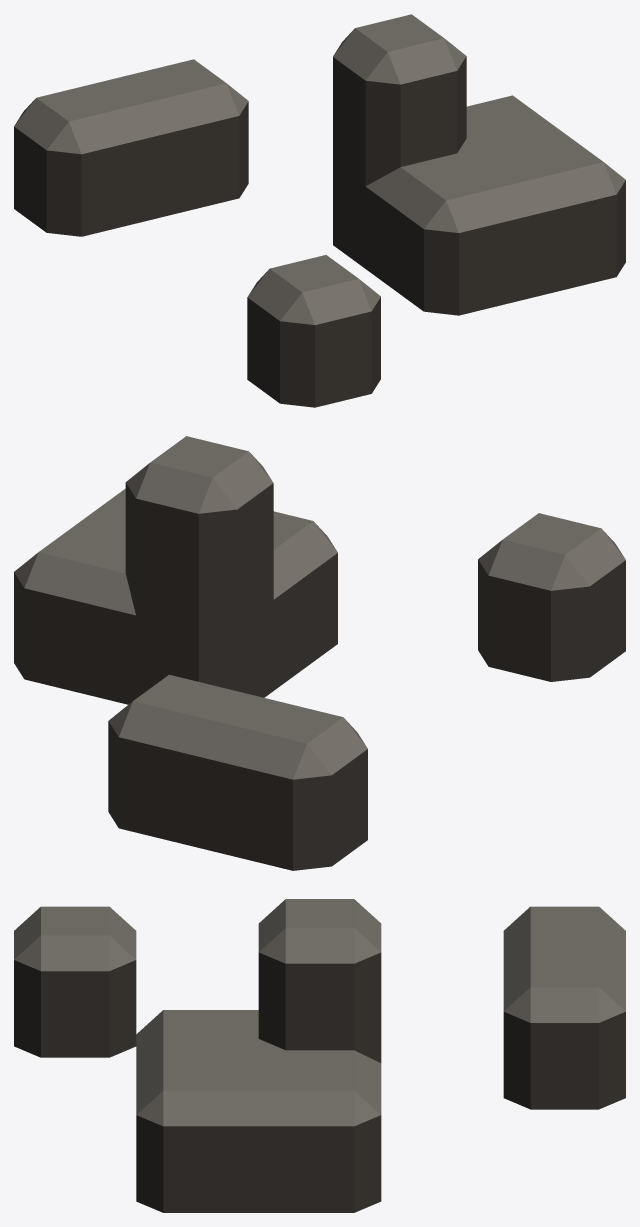
The picture shows the model from 3 angles, top to bottom: view 1: azimuth 30°, elevation 25°; view 2: azimuth 150°, elevation 25°; view 3: azimuth 270°, elevation 25°; orthographic projection. The views are drawn at different scales.
Parts seen in each view (by area): view 1: stone_debris_trio; view 2: stone_debris_trio; view 3: stone_debris_trio.
Boxes of the visible parts, x1,y1,x2,y2 form: stone_debris_trio: [14, 14, 625, 407]; stone_debris_trio: [14, 436, 625, 870]; stone_debris_trio: [14, 899, 625, 1212].
Size of the model in its own units: 0.4 by 0.2 by 0.5.
1 material, 1 textured.
